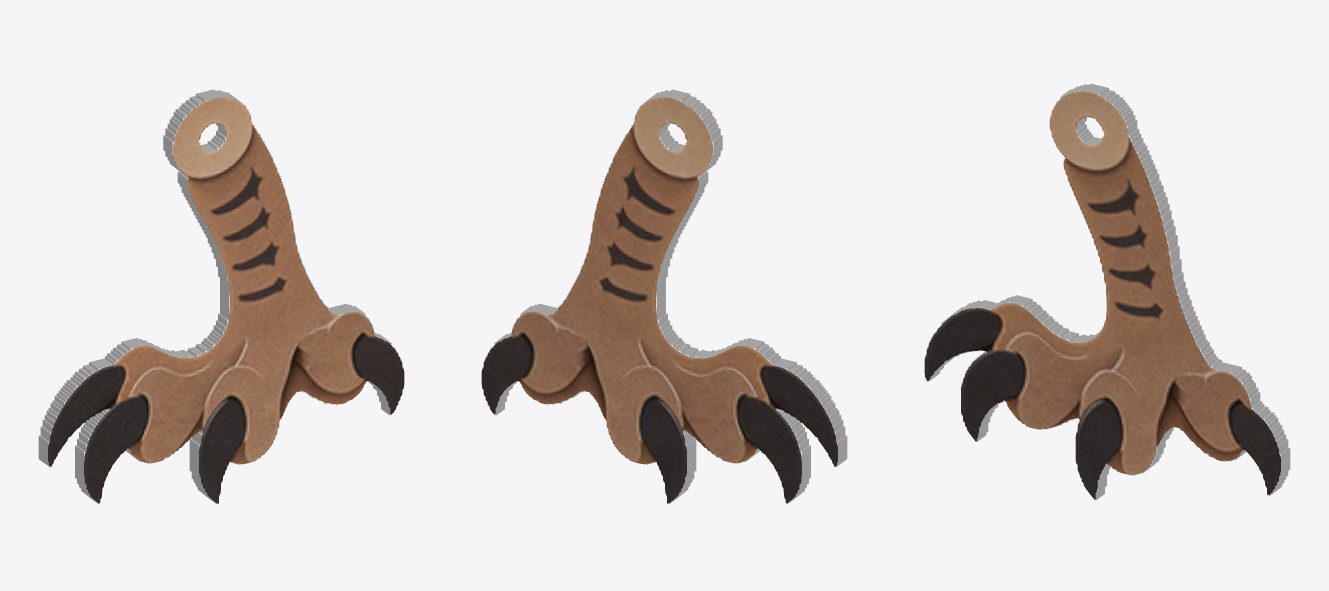
The model's file is Claw04.glb.
3 views of the same model, side by side, from view 1: azimuth 30°, elevation 25°; view 2: azimuth 150°, elevation 25°; view 3: azimuth 330°, elevation 25° (orthographic).
Visible parts, largest first — view 1: PaperVolume; view 2: PaperVolume; view 3: PaperVolume.
Part boxes in pixels (x1=…): PaperVolume: x1=38, y1=89, x2=404, y2=503; PaperVolume: x1=481, y1=89, x2=847, y2=503; PaperVolume: x1=924, y1=83, x2=1290, y2=500.
Size of the model in its own units: 2.01 by 2.17 by 0.08.
Materials: 3 (2 with a texture image).
